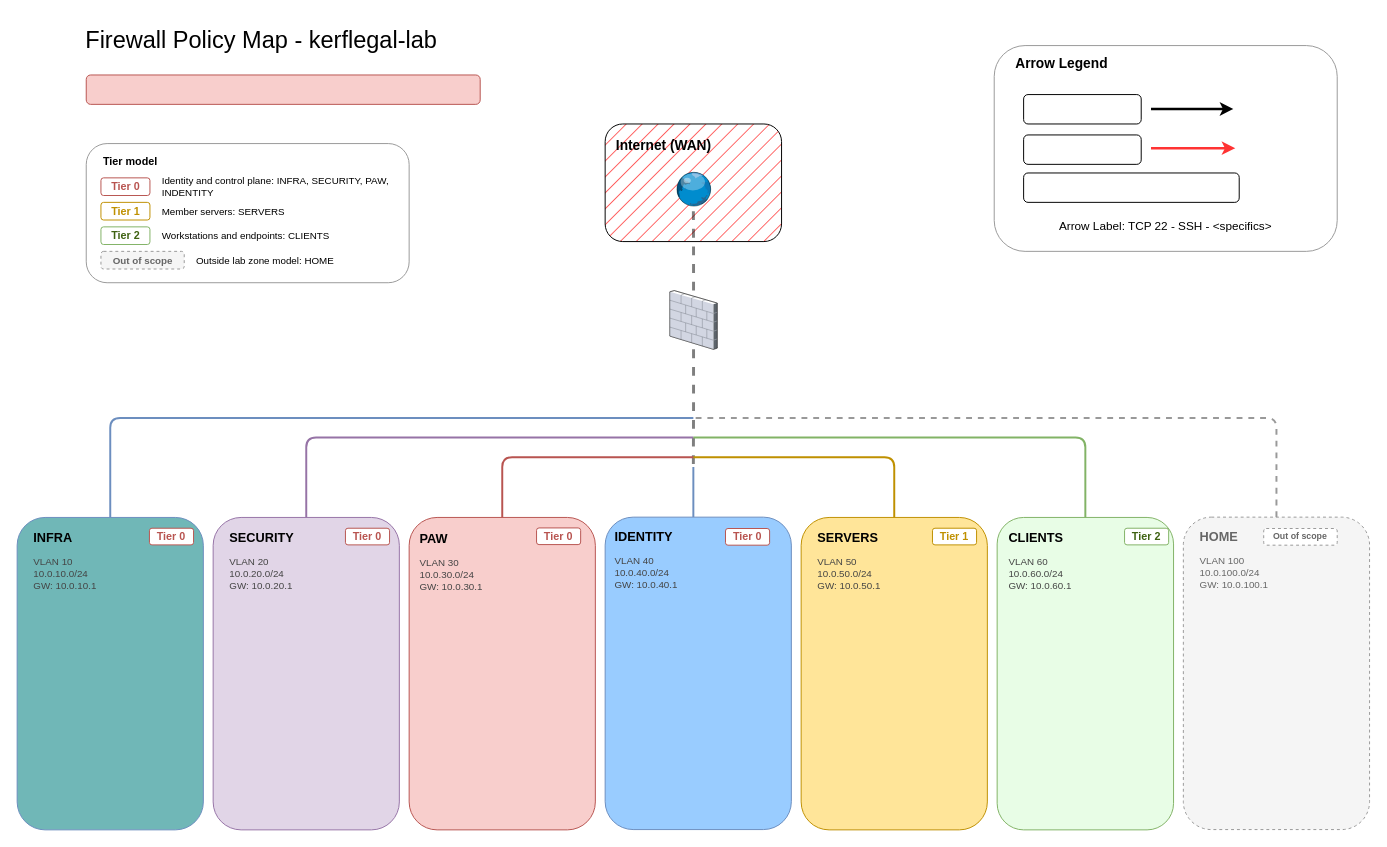
Some shapes in this 1387 by 847 pixel diagram are drawn without their labels. Each missing label, with the box of its shape:
Allowed traffic: (1023, 94, 1141, 124)
Default deny = no arrow: (1023, 172, 1239, 202)
DEFAULT DENY BETWEEN ALL ZONES: (85, 74, 480, 104)
fw01 - OPNsense Inter-VLAN routing: (669, 290, 717, 349)
PAW administration: (1023, 134, 1141, 164)
